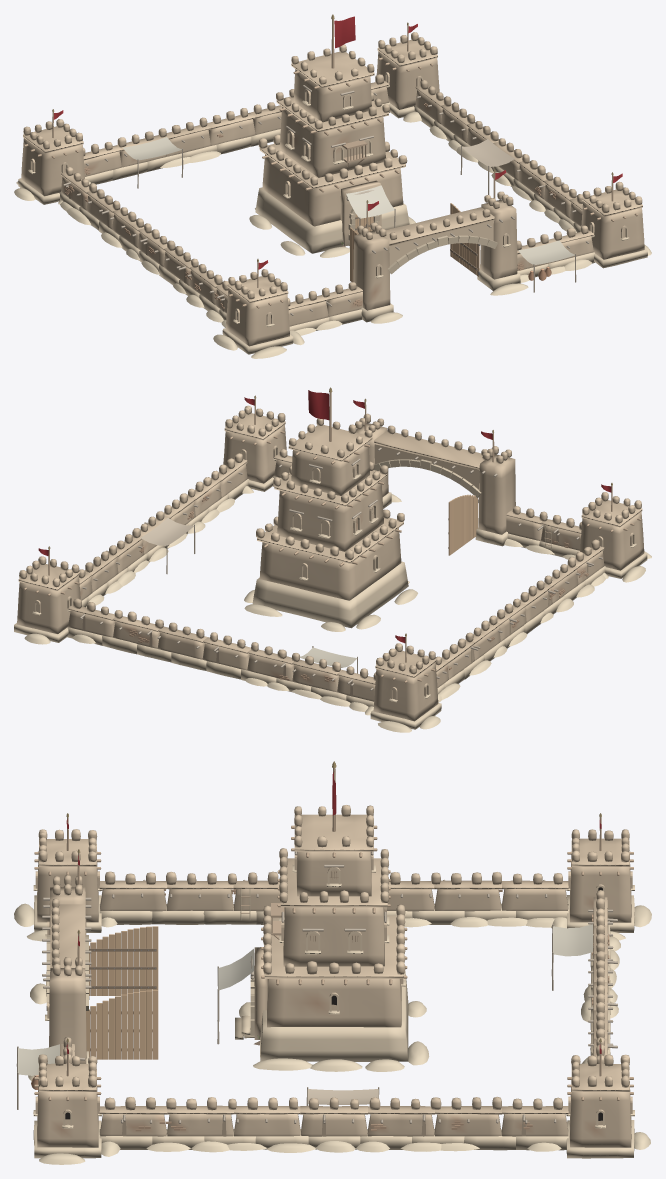
File: rival_kit.glb
3 renders of one model, top to bottom at view 1: azimuth 30°, elevation 25°; view 2: azimuth 150°, elevation 25°; view 3: azimuth 270°, elevation 25°, orthographic. The views are drawn at different scales.
Parts seen in each view (by area): view 1: rival_walls, rival_keep; view 2: rival_walls, rival_keep; view 3: rival_walls, rival_keep.
Part boxes in pixels (x1,y1,x2,y2): rival_walls: (14, 22, 651, 358); rival_keep: (249, 14, 415, 257); rival_walls: (14, 395, 651, 732); rival_keep: (244, 387, 417, 631); rival_walls: (14, 813, 651, 1164); rival_keep: (217, 761, 429, 1071).
Bounding box in the file's own units: 28.53 × 13.73 × 28.74.
